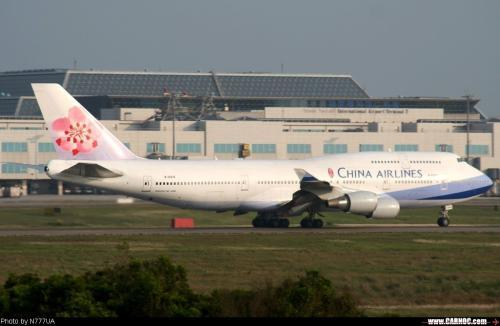airplane: (26, 81, 495, 227)
